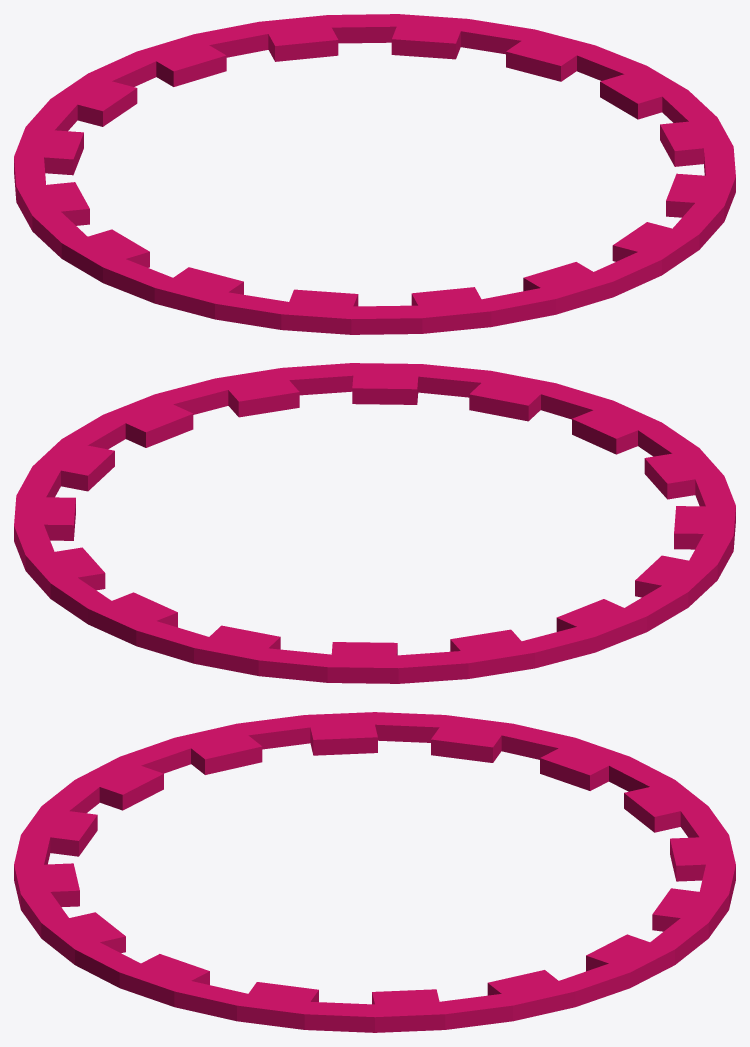
File: target.glb
The picture shows the model from 3 angles, top to bottom: view 1: azimuth 30°, elevation 25°; view 2: azimuth 150°, elevation 25°; view 3: azimuth 270°, elevation 25°; orthographic projection.
Parts seen in each view (by area): view 1: Cylinder; view 2: Cylinder; view 3: Cylinder.
Part boxes in pixels (<box>): Cylinder: <box>14,14,735,334</box>; Cylinder: <box>14,363,735,683</box>; Cylinder: <box>14,712,735,1032</box>.
Size of the model in its own units: 2 by 0.0487 by 2.
